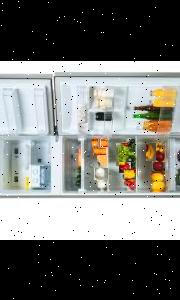Huevos: (78, 104, 88, 112), (78, 126, 88, 132), (78, 122, 88, 126)
Leche: (94, 166, 108, 178), (95, 178, 107, 189)
Lechuga/Endivia: (116, 142, 134, 165)
Limón: (150, 178, 166, 190), (150, 170, 165, 180)
Manzana: (152, 160, 165, 170), (153, 150, 165, 160)
Plátano: (146, 142, 156, 160)
Yogur: (92, 138, 100, 147), (99, 146, 108, 154), (92, 146, 100, 154), (100, 138, 108, 146)
